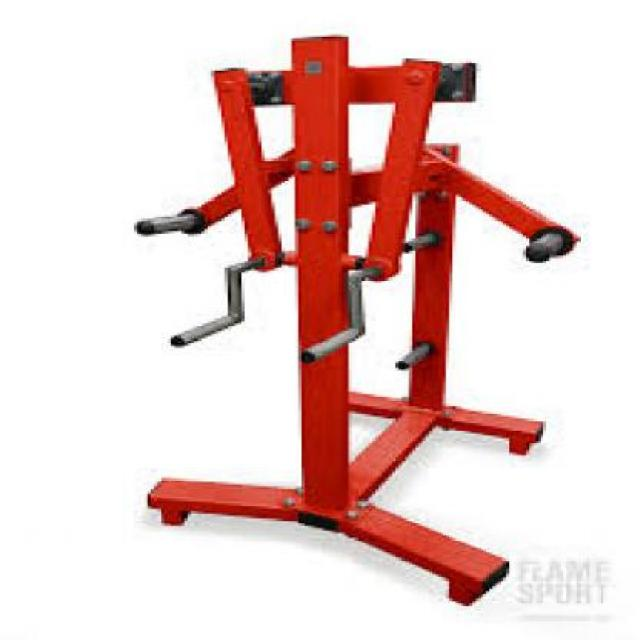lateral raises machine: (131, 37, 583, 554)
